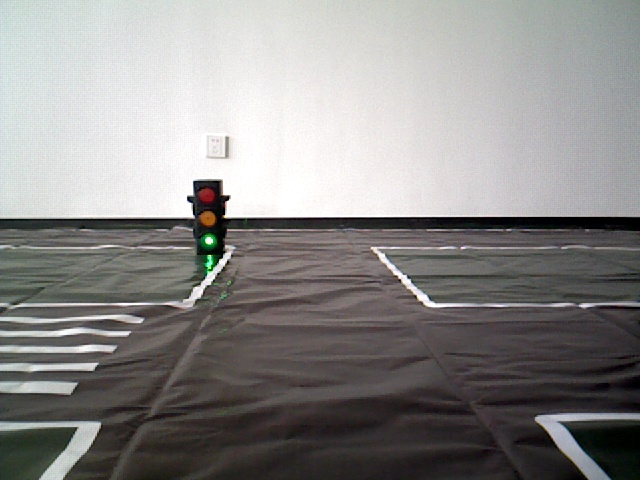green: (193, 181, 222, 253)
